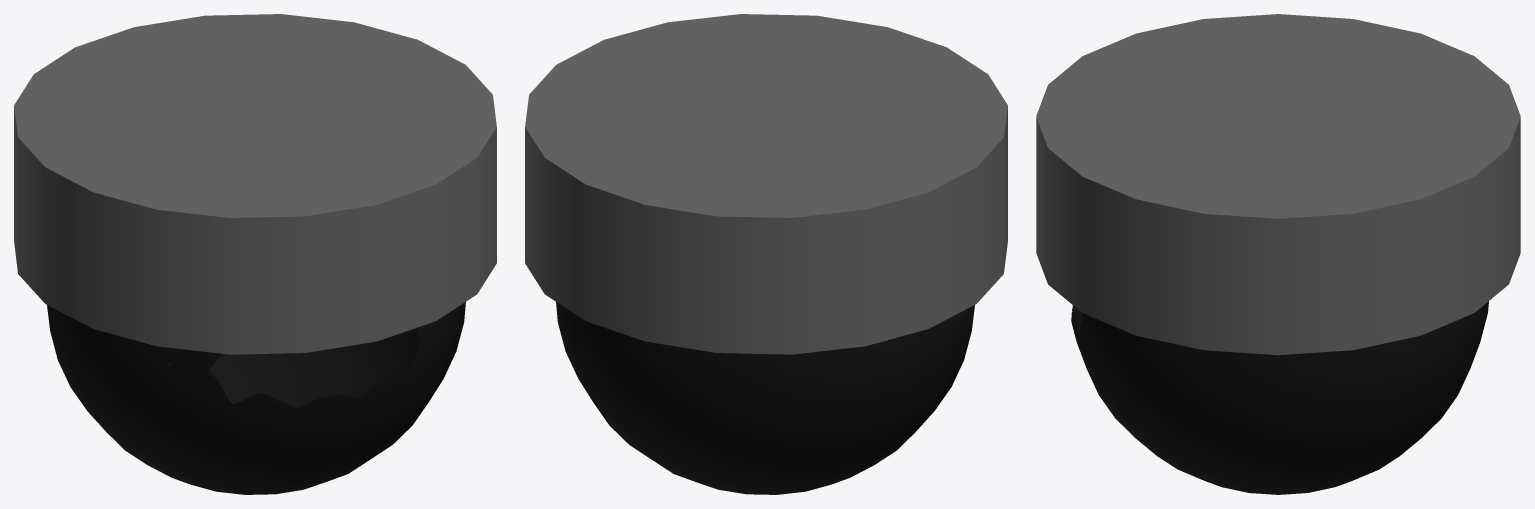
File: Videocamera.fbx
The picture shows the model from 3 angles, left to right: view 1: azimuth 30°, elevation 25°; view 2: azimuth 150°, elevation 25°; view 3: azimuth 270°, elevation 25°; orthographic projection.
Visible parts, largest first — view 1: Videocamera1; view 2: Videocamera1; view 3: Videocamera1.
Part boxes in pixels (x1,y1,x2,y2): Videocamera1: (14, 14, 496, 494); Videocamera1: (525, 14, 1007, 494); Videocamera1: (1036, 14, 1520, 494).
Size of the model in its own units: 0.457 by 0.3733 by 0.457.
